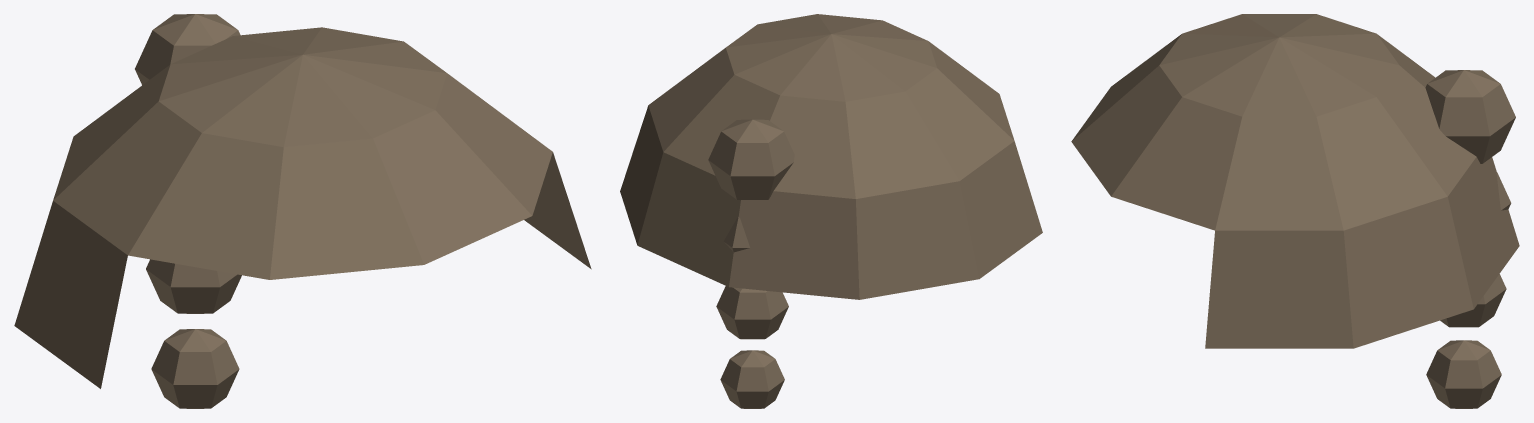
Rendered from braid.glb.
3 renders of one model, left to right at view 1: azimuth 30°, elevation 25°; view 2: azimuth 150°, elevation 25°; view 3: azimuth 270°, elevation 25°, orthographic. The views are drawn at different scales.
Parts seen in each view (by area): view 1: cap, braid.003, braid, braid.002; view 2: cap, braid, braid.002, braid.003, braid.001; view 3: cap, braid, braid.003, braid.002.
Boxes of the visible parts, x1,y1,x2,y2 form: cap: (14, 27, 591, 388); braid.003: (151, 329, 239, 408); braid: (135, 14, 240, 85); braid.002: (146, 259, 241, 313); cap: (620, 14, 1042, 299); braid: (708, 119, 794, 199); braid.002: (716, 286, 788, 339); braid.003: (720, 350, 784, 408); braid.001: (723, 217, 749, 252); cap: (1071, 14, 1519, 348); braid: (1425, 70, 1515, 163); braid.003: (1426, 340, 1501, 408); braid.002: (1440, 274, 1506, 327).
Size of the model in its own units: 0.5136 by 0.433 by 0.4736.
